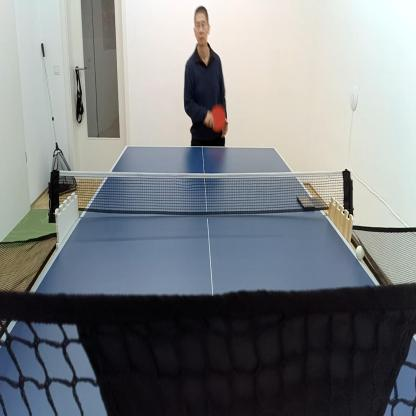Ball: (355, 244, 366, 262)
